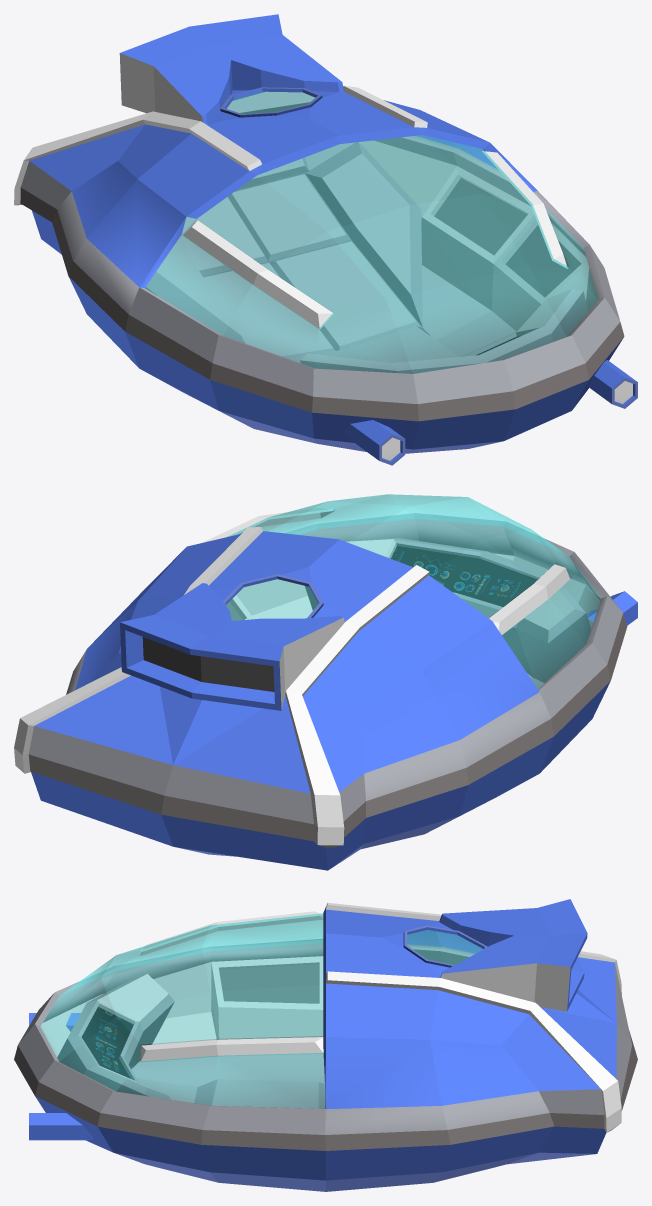
File: SpaceShip_02.glb
3 renders of one model, top to bottom at view 1: azimuth 30°, elevation 25°; view 2: azimuth 150°, elevation 25°; view 3: azimuth 270°, elevation 25°, orthographic. The views are drawn at different scales.
Visible parts, largest first — view 1: SpaceShip_02; view 2: SpaceShip_02; view 3: SpaceShip_02.
Boxes of the visible parts, x1,y1,x2,y2 form: SpaceShip_02: (14,14,637,465); SpaceShip_02: (14,494,637,870); SpaceShip_02: (14,899,637,1191).
Size of what is drawn, in the model's own units: 3.51 by 1.93 by 5.06.
3 materials, 3 textured.
